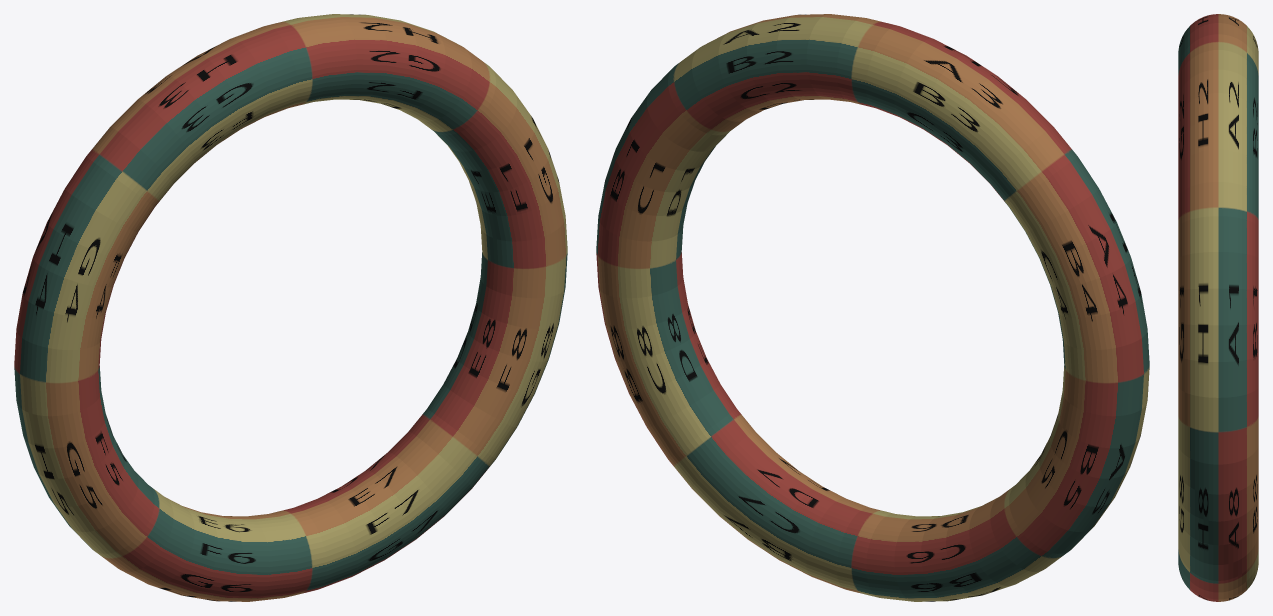
Rendered from texture_torus_R9_r2.glb.
The picture shows the model from 3 angles, left to right: view 1: azimuth 30°, elevation 25°; view 2: azimuth 150°, elevation 25°; view 3: azimuth 270°, elevation 25°; orthographic projection. The views are drawn at different scales.
Visible parts, largest first — view 1: world; view 2: world; view 3: world.
Boxes of the visible parts, x1,y1,x2,y2 form: world: [14, 14, 567, 601]; world: [596, 14, 1149, 601]; world: [1178, 14, 1258, 601].
Size of the model in its own units: 18.53 by 18.5 by 2.53.
Materials: 1 (1 with a texture image).
